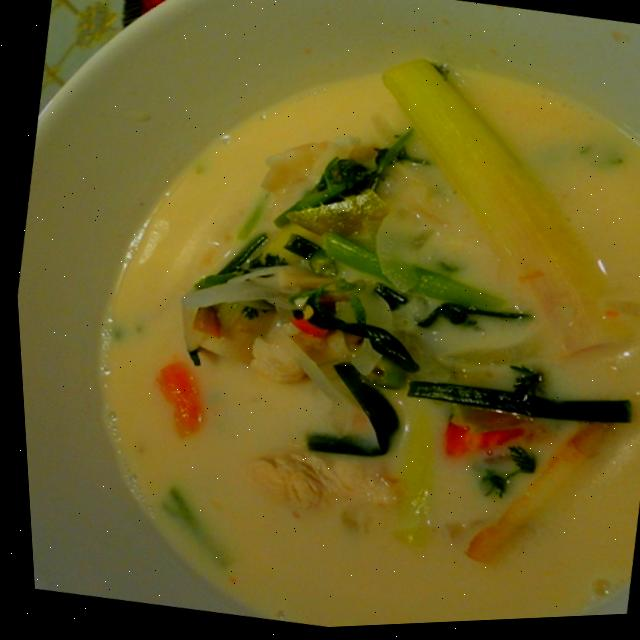汤锅炖物: (3, 11, 640, 640)
